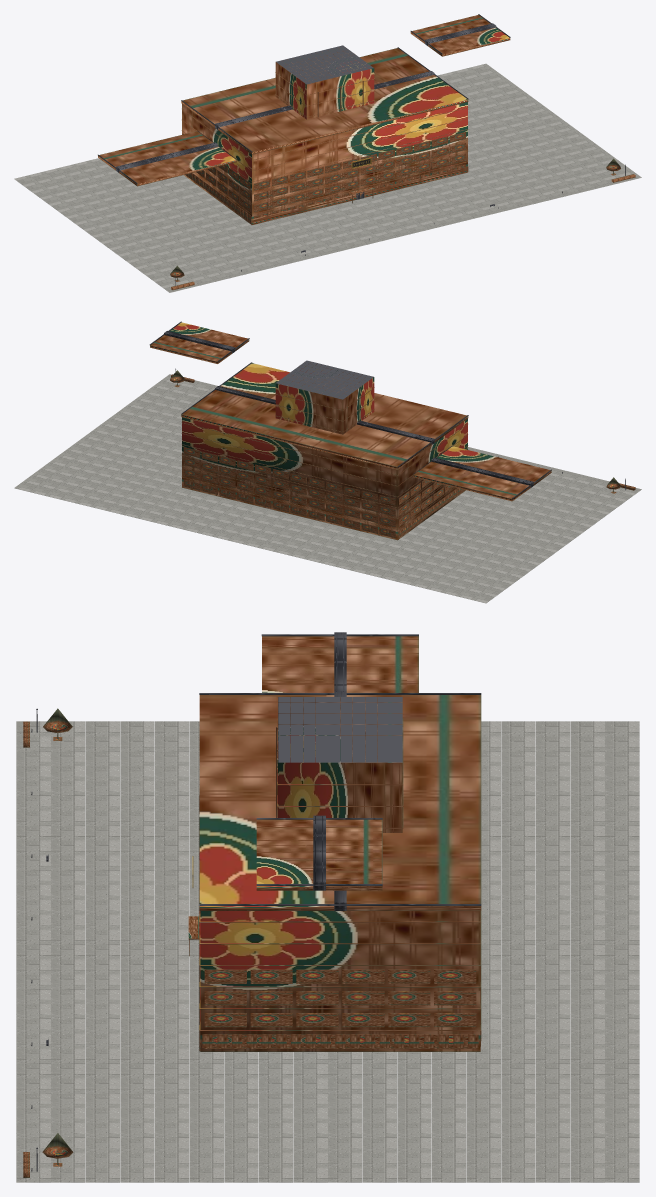
3 renders of one model, top to bottom at view 1: azimuth 30°, elevation 25°; view 2: azimuth 150°, elevation 25°; view 3: azimuth 270°, elevation 25°, orthographic. The views are drawn at different scales.
Parts seen in each view (by area): view 1: 11710_01_05551_002_01__plinth_ground_base, 11710_01_05551_002_02__mass_body_facade, 11710_01_05551_002_03__roof_metal_ornament, 11710_01_05551_002_03__roof_deck_structure, 11710_01_05551_002_05__window_sash_glass, 11710_01_05551_002_06__landscape_greenery; view 2: 11710_01_05551_002_01__plinth_ground_base, 11710_01_05551_002_02__mass_body_facade, 11710_01_05551_002_03__roof_metal_ornament, 11710_01_05551_002_03__roof_deck_structure; view 3: 11710_01_05551_002_01__plinth_ground_base, 11710_01_05551_002_02__mass_body_facade, 11710_01_05551_002_03__roof_deck_structure, 11710_01_05551_002_03__roof_metal_ornament, 11710_01_05551_002_06__landscape_greenery.
Boxes of the visible parts, x1,y1,x2,y2 form: 11710_01_05551_002_01__plinth_ground_base: (14, 63, 641, 292); 11710_01_05551_002_02__mass_body_facade: (98, 15, 510, 224); 11710_01_05551_002_03__roof_metal_ornament: (98, 14, 510, 183); 11710_01_05551_002_03__roof_deck_structure: (276, 45, 373, 84); 11710_01_05551_002_05__window_sash_glass: (267, 146, 452, 215); 11710_01_05551_002_06__landscape_greenery: (170, 158, 635, 290); 11710_01_05551_002_01__plinth_ground_base: (14, 374, 641, 603); 11710_01_05551_002_02__mass_body_facade: (150, 322, 551, 540); 11710_01_05551_002_03__roof_metal_ornament: (149, 321, 551, 498); 11710_01_05551_002_03__roof_deck_structure: (276, 360, 373, 399); 11710_01_05551_002_01__plinth_ground_base: (16, 721, 639, 1182); 11710_01_05551_002_02__mass_body_facade: (188, 636, 481, 1051); 11710_01_05551_002_03__roof_deck_structure: (278, 697, 402, 762); 11710_01_05551_002_03__roof_metal_ornament: (199, 632, 481, 910); 11710_01_05551_002_06__landscape_greenery: (23, 708, 73, 1177).
Size of the model in its own units: 210 by 49 by 120.
7 materials, 7 textured.
